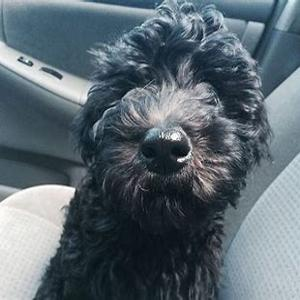dog: (75, 17, 269, 237)
